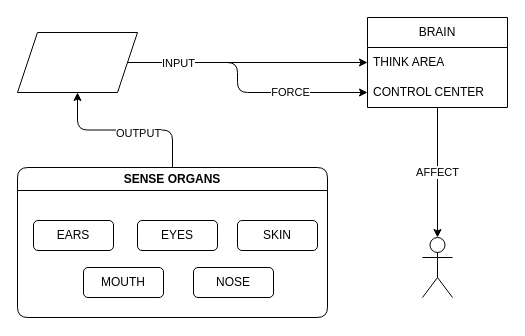
The diagram is 525 pixels wide and 336 high, and some of its shapes have lost their labels. The centre of each missing label's shape, as x and y in pixels:
"Actor" goes at [437,267].
"INFOMATION" goes at [77,62].
